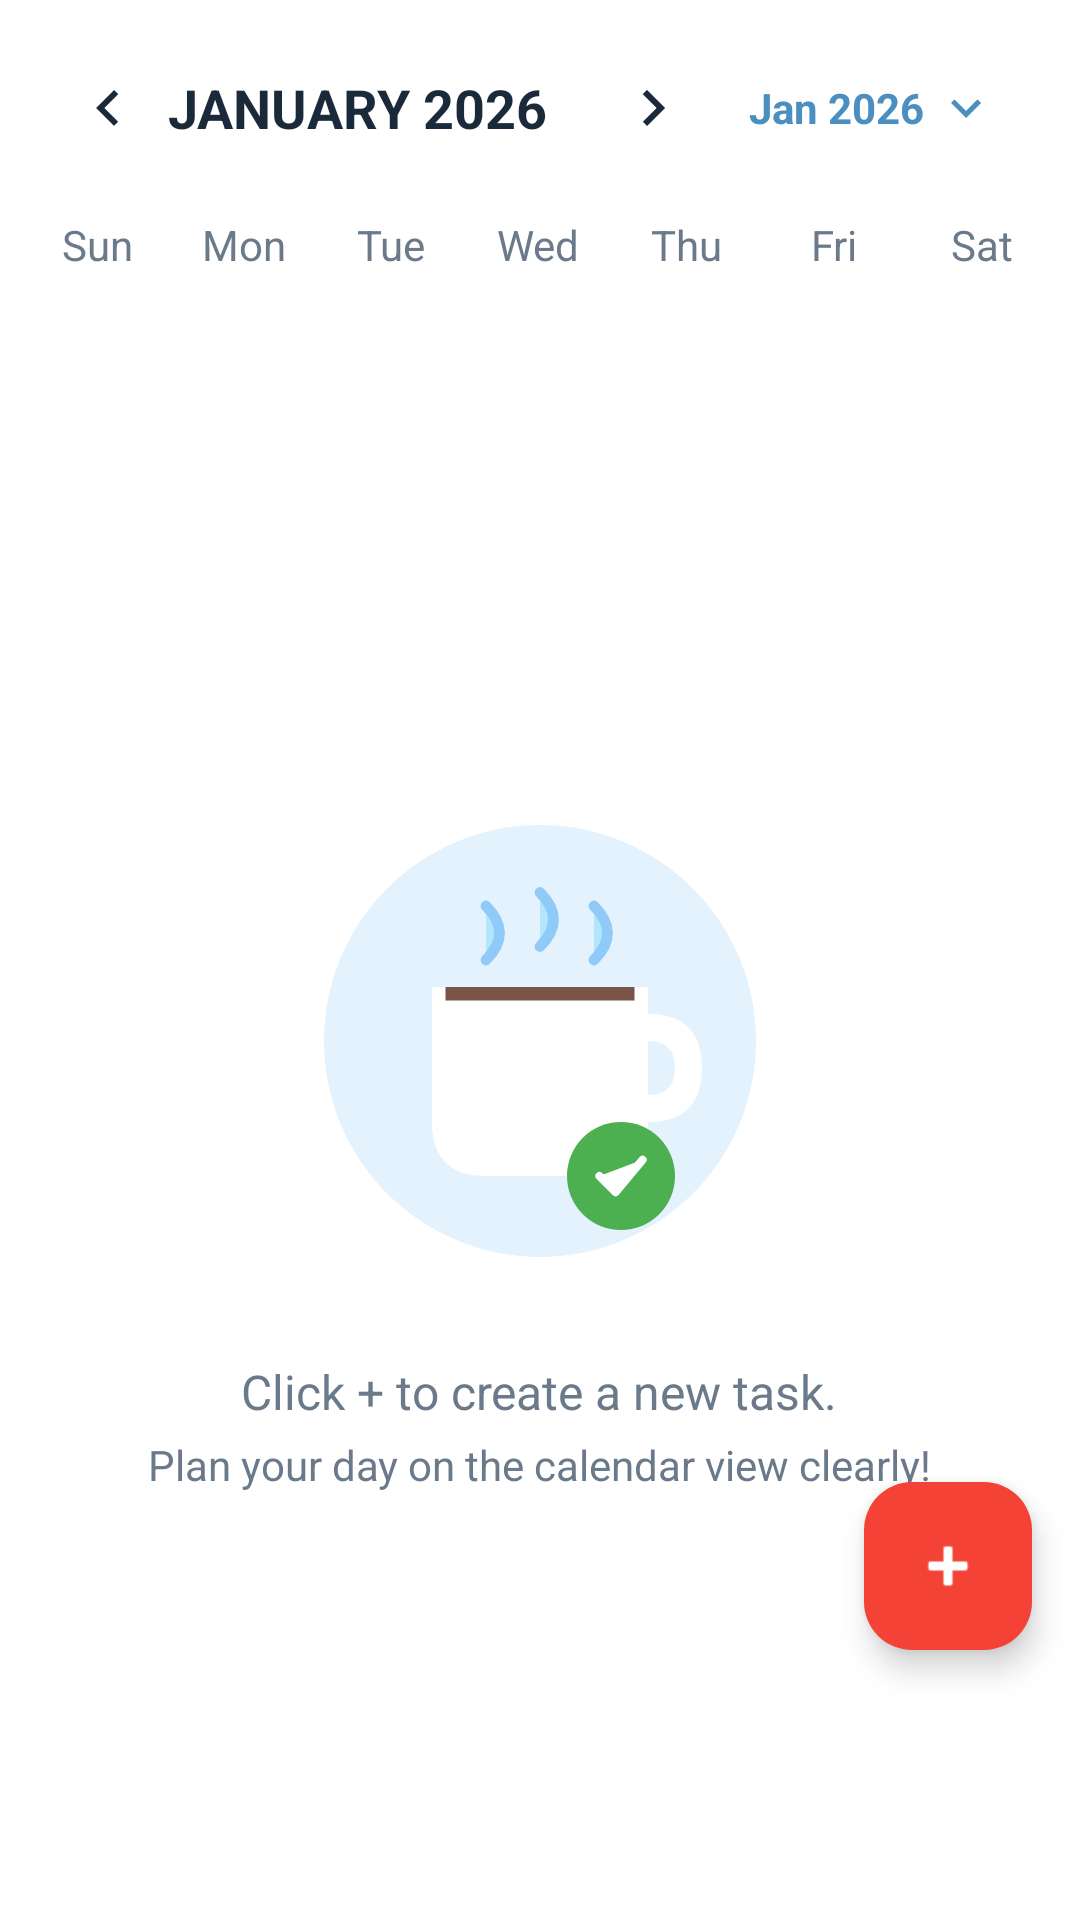

Named icons in this screenshot (1080 x 1920) and their bounding boxes, (x1, y1, x2, y2):
arrow down: (951, 99, 981, 118)
Next month: (643, 90, 665, 126)
Previous month: (96, 90, 118, 126)
